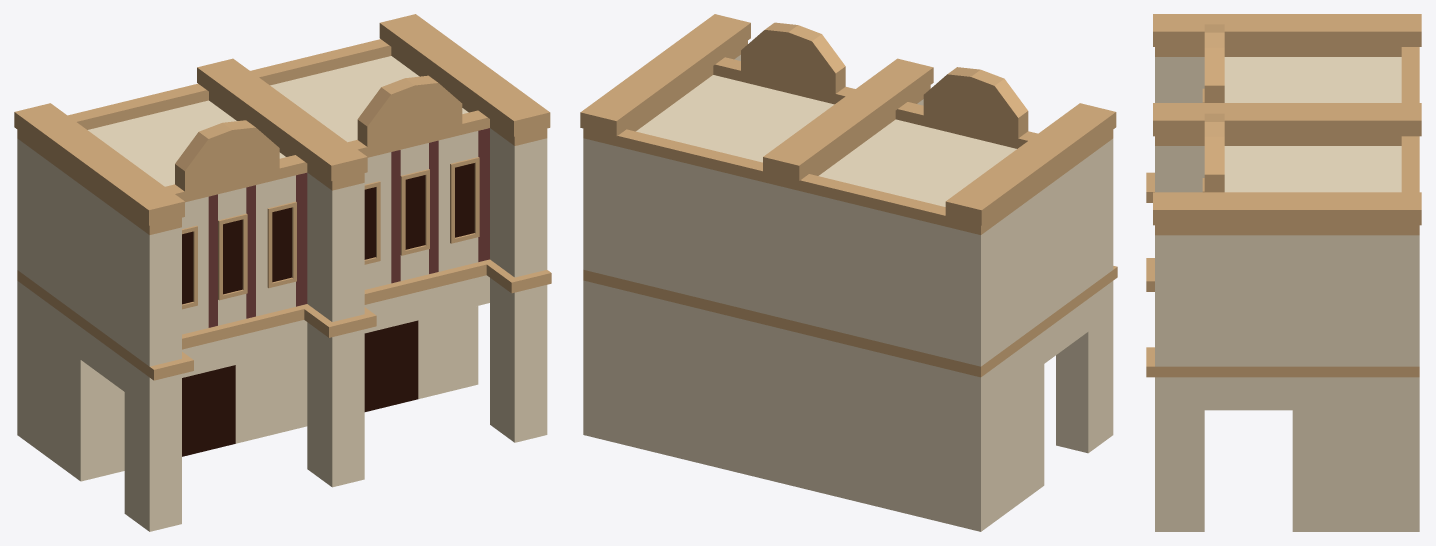
File: HOUSE_02.fbx
The picture shows the model from 3 angles, left to right: view 1: azimuth 30°, elevation 25°; view 2: azimuth 150°, elevation 25°; view 3: azimuth 270°, elevation 25°; orthographic projection.
Visible parts, largest first — view 1: H1; view 2: H1; view 3: H1.
Part boxes in pixels (x1,y1,x2,y2): H1: (14, 14, 551, 531); H1: (580, 14, 1117, 531); H1: (1146, 14, 1421, 531).
Bounding box in the file's own units: 637 × 542 × 378.
